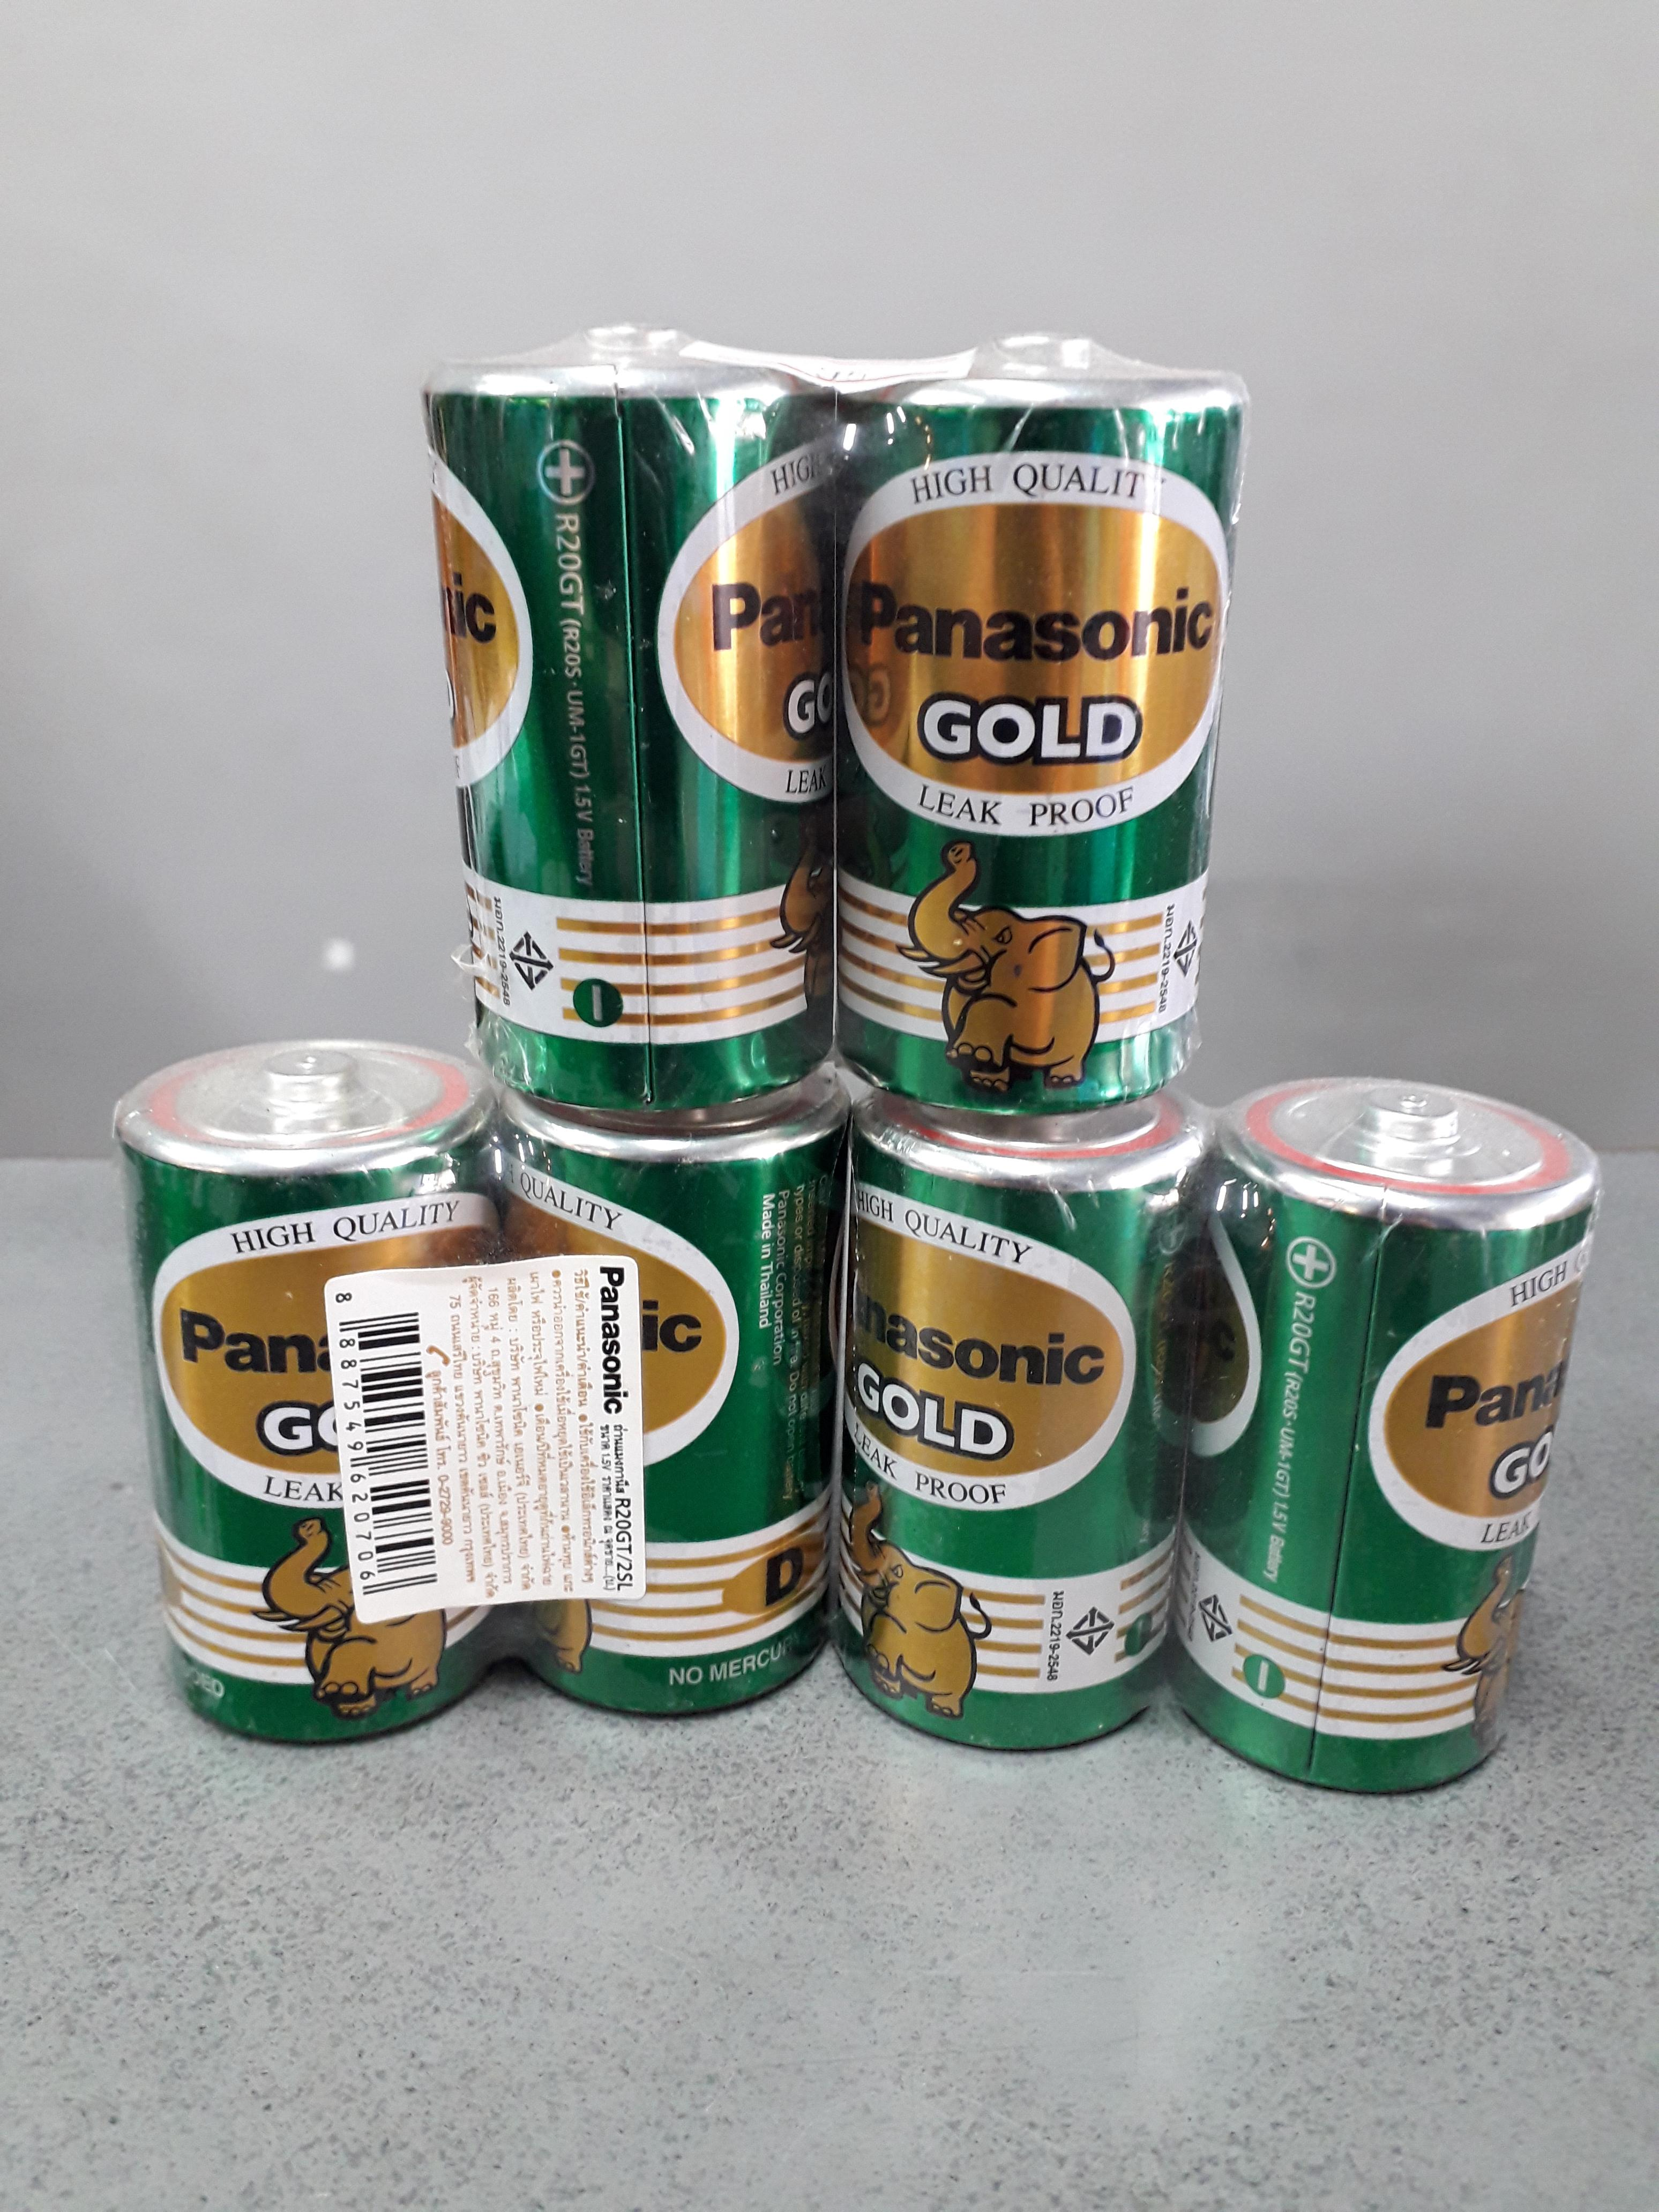Battery: (415, 319, 854, 1143), (838, 329, 1255, 1127), (1171, 1076, 1598, 1810), (103, 1028, 504, 1754), (840, 1071, 1218, 1763), (497, 1094, 840, 1738)
